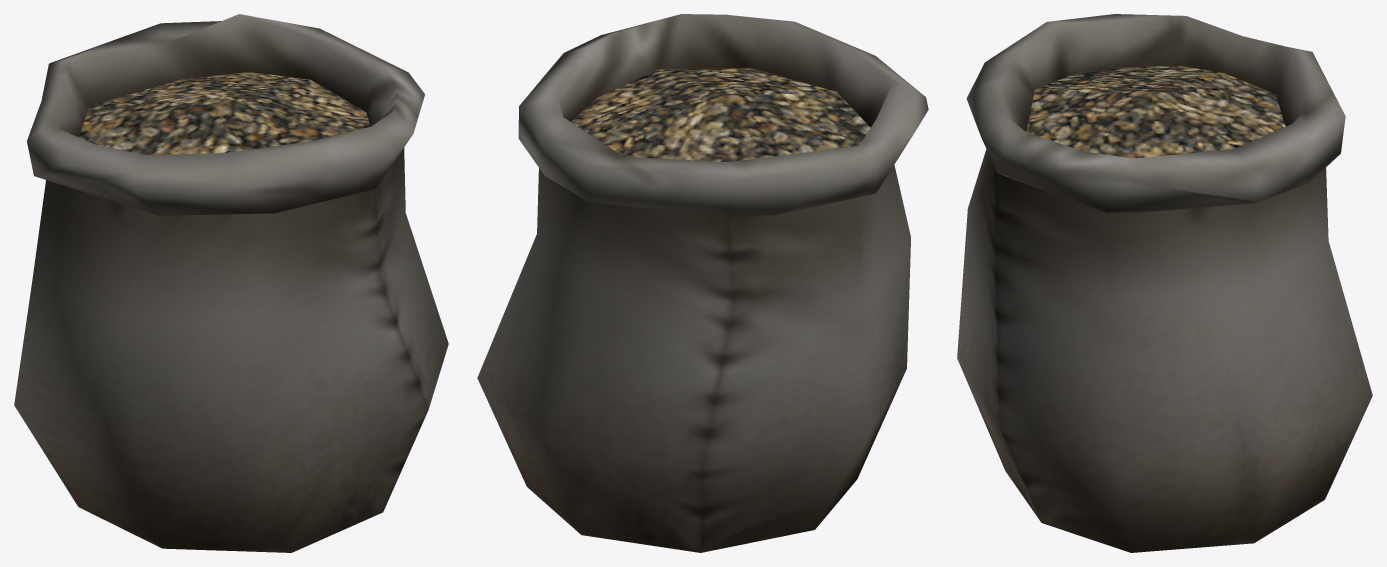
File: GY_budai002.fbx
3 views of the same model, side by side, from view 1: azimuth 30°, elevation 25°; view 2: azimuth 150°, elevation 25°; view 3: azimuth 270°, elevation 25° (orthographic). The views are drawn at different scales.
Parts seen in each view (by area): view 1: GY_budai002; view 2: GY_budai002; view 3: GY_budai002.
Part boxes in pixels (x1=…): GY_budai002: x1=14, y1=14, x2=448, y2=552; GY_budai002: x1=477, y1=14, x2=928, y2=552; GY_budai002: x1=957, y1=14, x2=1372, y2=552.
Size of the model in its own units: 82.13 by 82.56 by 78.77.
